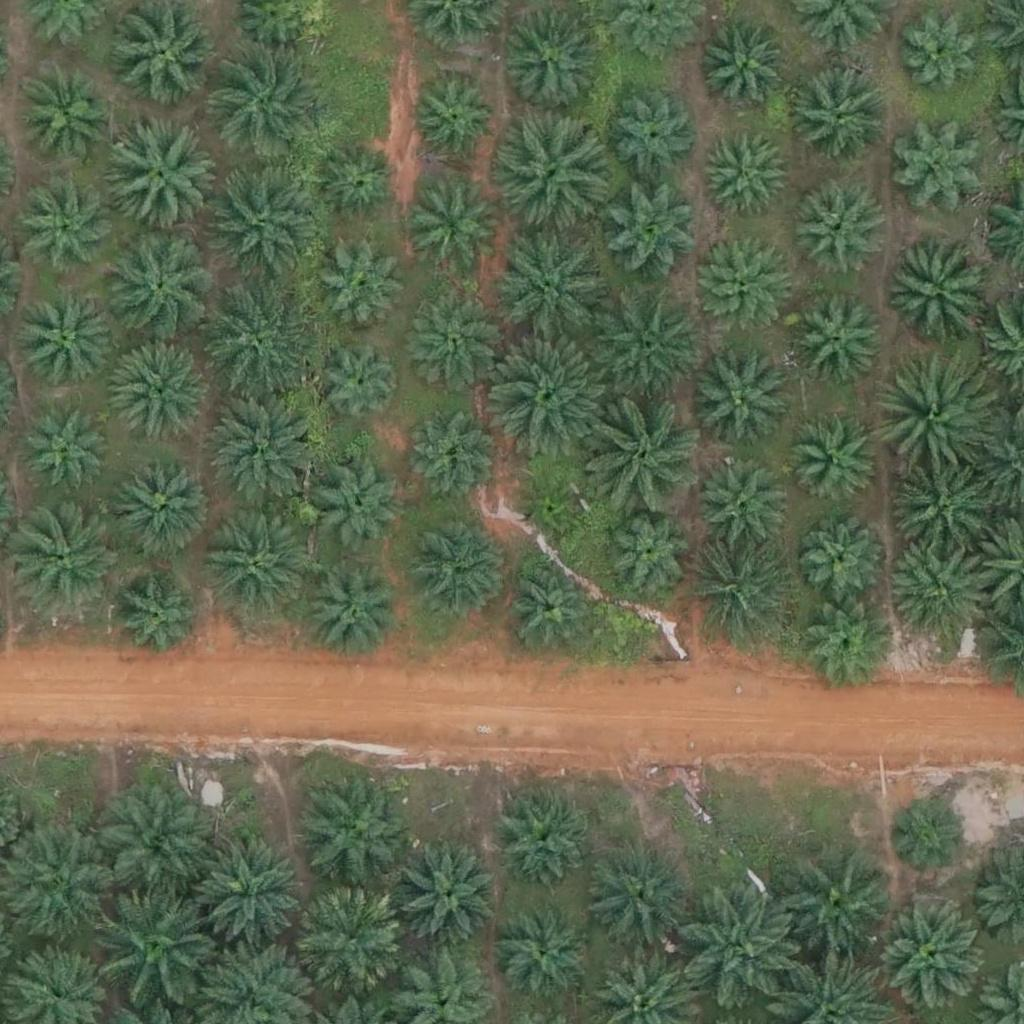Kelapa_Sawit: (298, 772, 411, 886), (196, 836, 309, 950), (587, 395, 700, 509), (210, 167, 323, 281), (682, 891, 795, 1004), (294, 886, 407, 999), (102, 887, 215, 1000), (686, 534, 799, 647), (496, 109, 609, 222), (100, 123, 213, 236), (586, 841, 698, 955), (6, 825, 118, 939), (886, 530, 998, 644), (198, 508, 310, 622), (876, 898, 988, 1011), (782, 847, 894, 960), (100, 788, 212, 901), (880, 364, 992, 477), (590, 288, 702, 401), (495, 230, 607, 343), (492, 341, 604, 454), (213, 46, 325, 159), (201, 286, 313, 399), (209, 398, 321, 511), (103, 230, 215, 343), (13, 504, 125, 617), (493, 790, 593, 891), (396, 848, 496, 949), (885, 242, 985, 343), (887, 110, 987, 211), (698, 242, 798, 343), (694, 452, 794, 553), (601, 503, 701, 604), (596, 183, 696, 284), (502, 10, 602, 111), (409, 521, 509, 622), (303, 565, 403, 666), (114, 456, 214, 557), (17, 64, 117, 165), (19, 181, 119, 282), (15, 292, 115, 393), (494, 904, 594, 1004), (892, 457, 992, 557), (792, 72, 892, 172), (796, 598, 896, 698), (694, 361, 794, 461), (113, 339, 213, 439), (794, 295, 882, 383), (787, 419, 875, 507), (791, 511, 879, 599), (699, 18, 787, 106), (700, 131, 788, 219), (410, 296, 498, 384), (319, 247, 407, 335), (315, 341, 403, 429), (115, 579, 203, 667), (507, 562, 594, 651), (411, 77, 498, 166), (27, 407, 114, 496), (894, 7, 981, 95), (796, 183, 883, 271), (612, 90, 699, 178), (415, 192, 502, 280), (408, 412, 495, 500), (314, 144, 401, 232), (315, 458, 402, 546), (895, 801, 970, 876), (523, 480, 586, 543)
